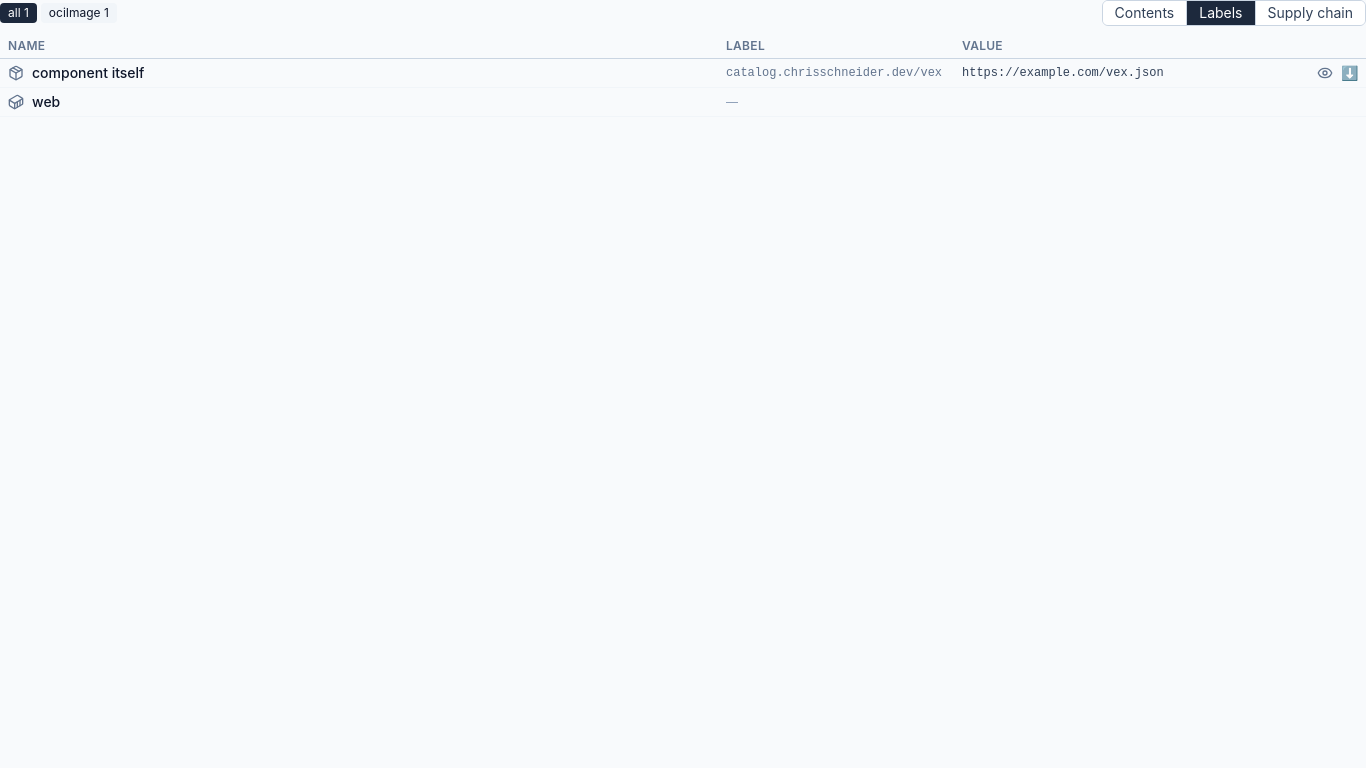
Test: labels view: VEX label opens the attestation by digest
Click the button named "View catalog.chrisschneider.dev/vex": coordinates (1325, 73) x1=1317 y1=65 x2=1333 y2=81
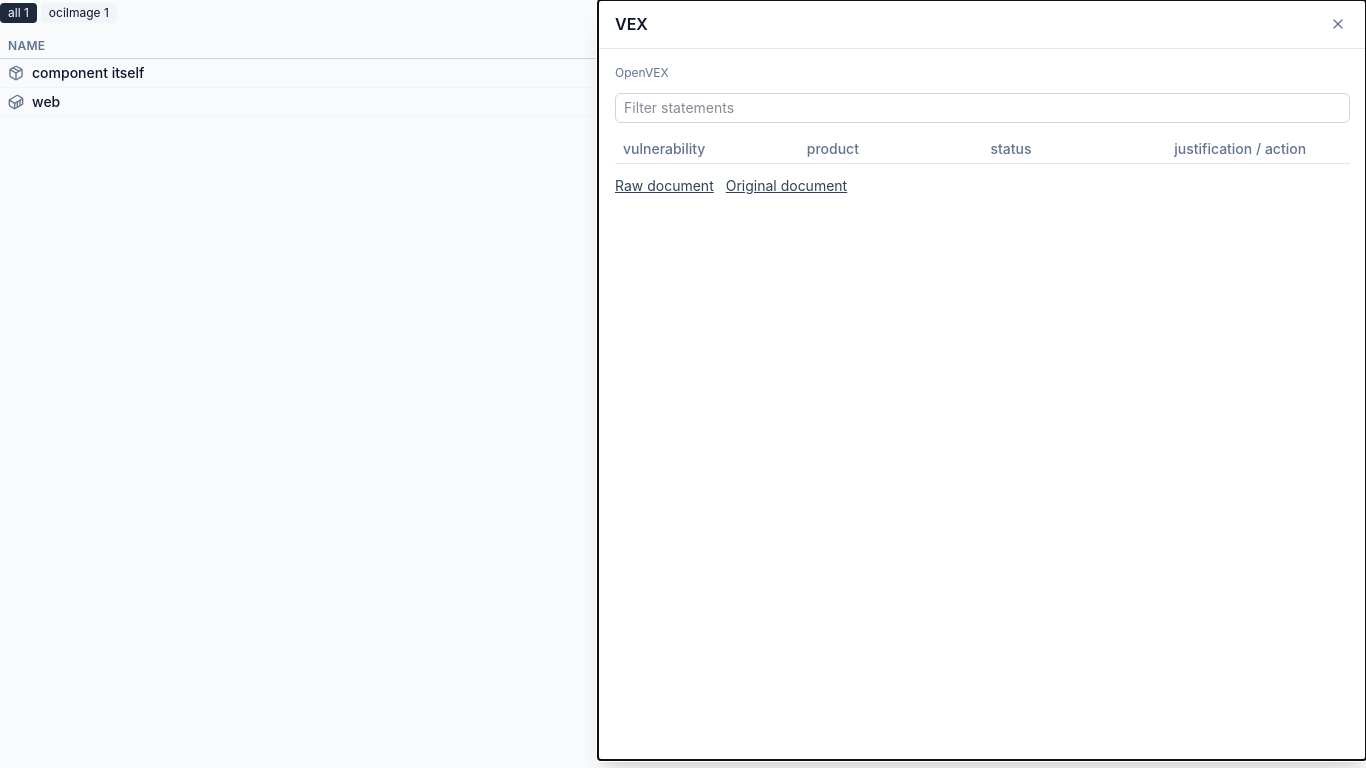
Check: the dialog "VEX" is shown, box x1=598 y1=0 x2=1365 y2=760
